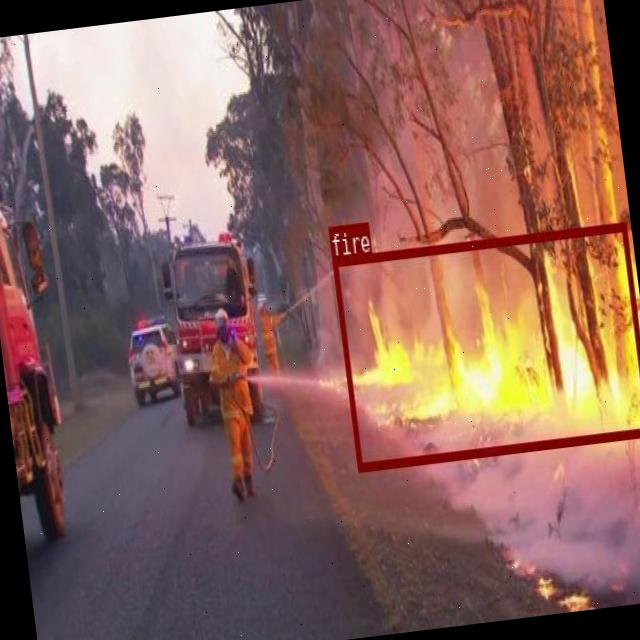fire: (331, 221, 640, 469)
